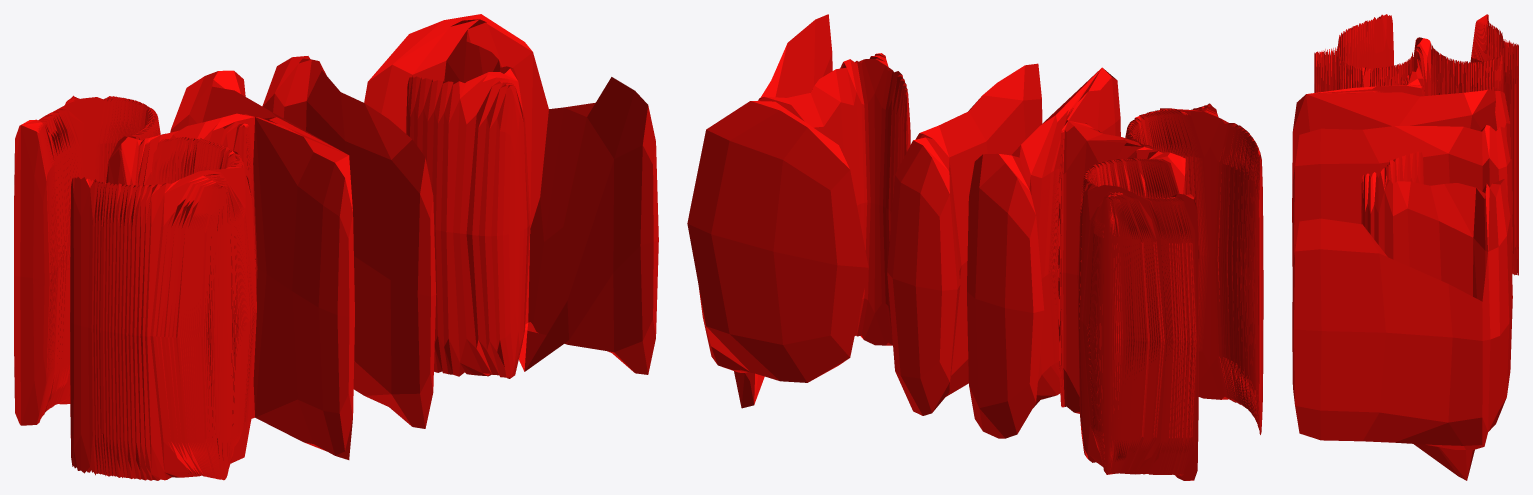
The model's file is fire.fbx.
The picture shows the model from 3 angles, left to right: view 1: azimuth 30°, elevation 25°; view 2: azimuth 150°, elevation 25°; view 3: azimuth 270°, elevation 25°; orthographic projection. The views are drawn at different scales.
Visible parts, largest first — view 1: Text; view 2: Text; view 3: Text.
Boxes of the visible parts, left/top/right/bottom form: Text: left=14, top=14, right=658, bottom=480; Text: left=687, top=14, right=1263, bottom=480; Text: left=1292, top=14, right=1518, bottom=480.
Size of the model in its own units: 90.57 by 56.68 by 41.65.
